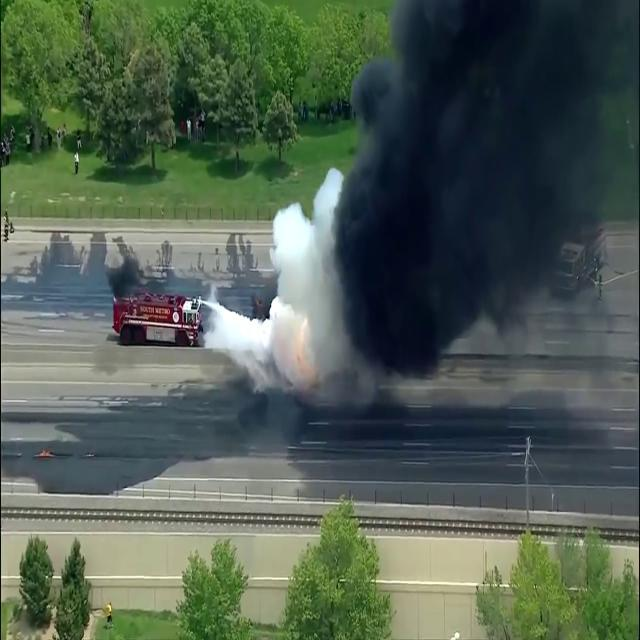Smoke: (244, 0, 636, 431)
